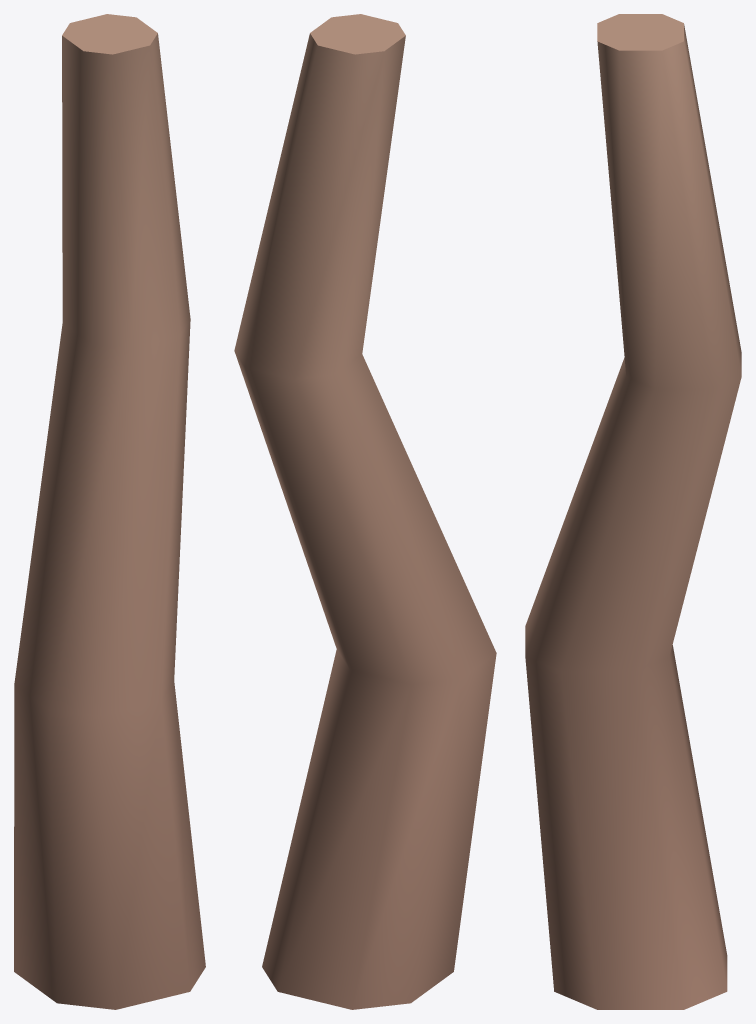
File: organic-twig-c.glb
The picture shows the model from 3 angles, left to right: view 1: azimuth 30°, elevation 25°; view 2: azimuth 150°, elevation 25°; view 3: azimuth 270°, elevation 25°; orthographic projection.
Parts seen in each view (by area): view 1: organic-twig-c; view 2: organic-twig-c; view 3: organic-twig-c.
Boxes of the visible parts, bbox=[...] form: organic-twig-c: bbox=[14, 14, 205, 1009]; organic-twig-c: bbox=[234, 14, 496, 1009]; organic-twig-c: bbox=[525, 14, 741, 1009].
Size of the model in its own units: 0.0628 by 0.3 by 0.0625.
